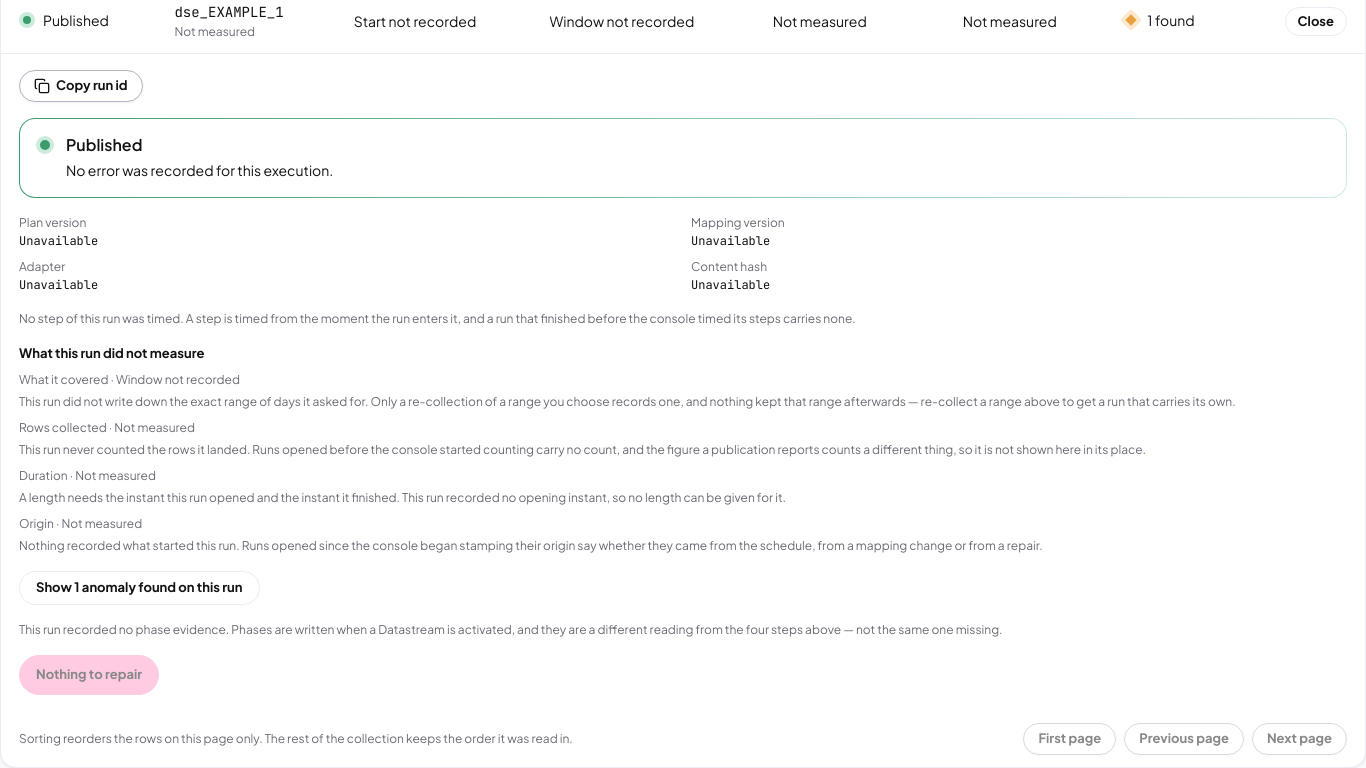
Runs tab — the anomaly panel, story 59.1 › a replay that matches nothing says so, and never 'no rows were returned'
(page scrolled)
Click the button with test id "run-anomalies-trigger".
click(139, 588)  # box [19,571,260,605]
(page scrolled)
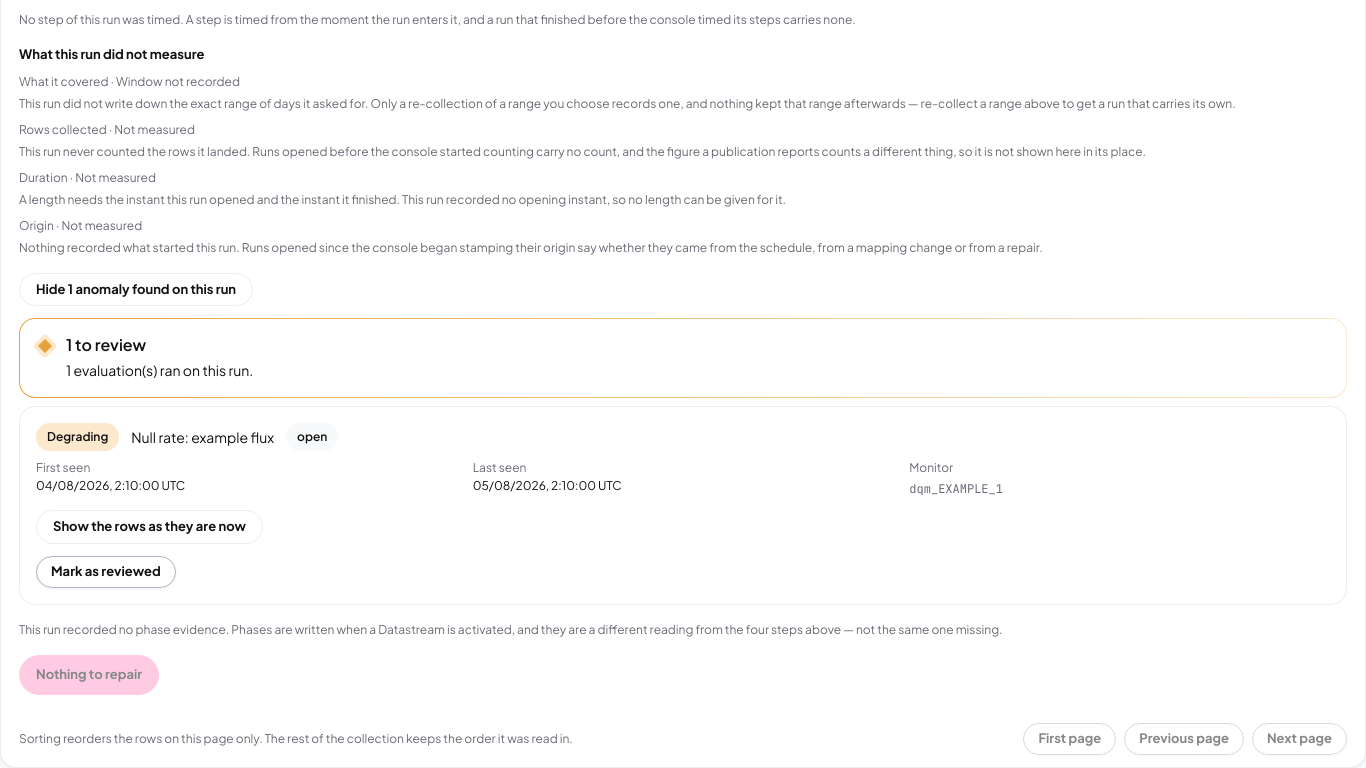
Click the button with test id "run-anomaly-rows-trigger".
click(150, 527)  # box [36,510,263,544]
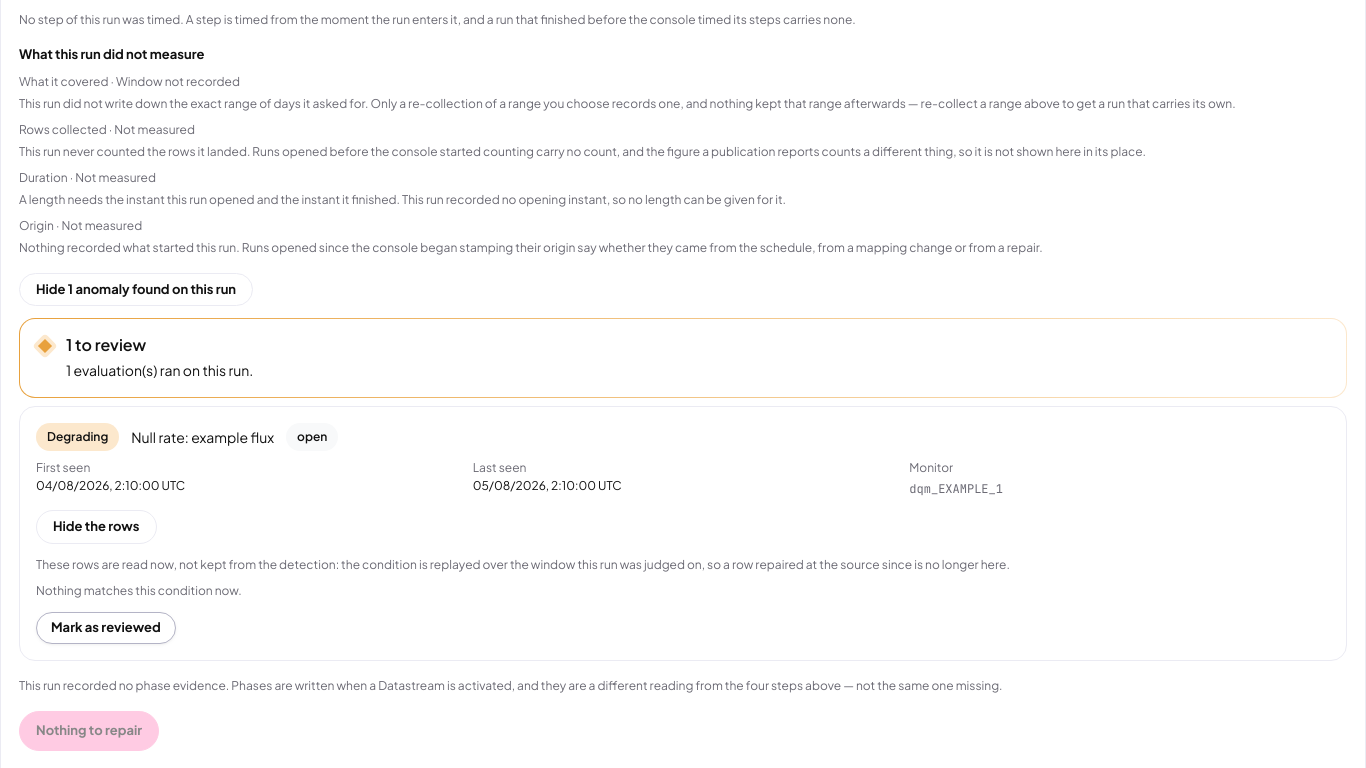
Now the text with test id "run-anomaly-empty" reads "Nothing matches this condition now.", box [36,583,242,598]
